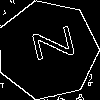Z: (22, 25, 75, 65)
